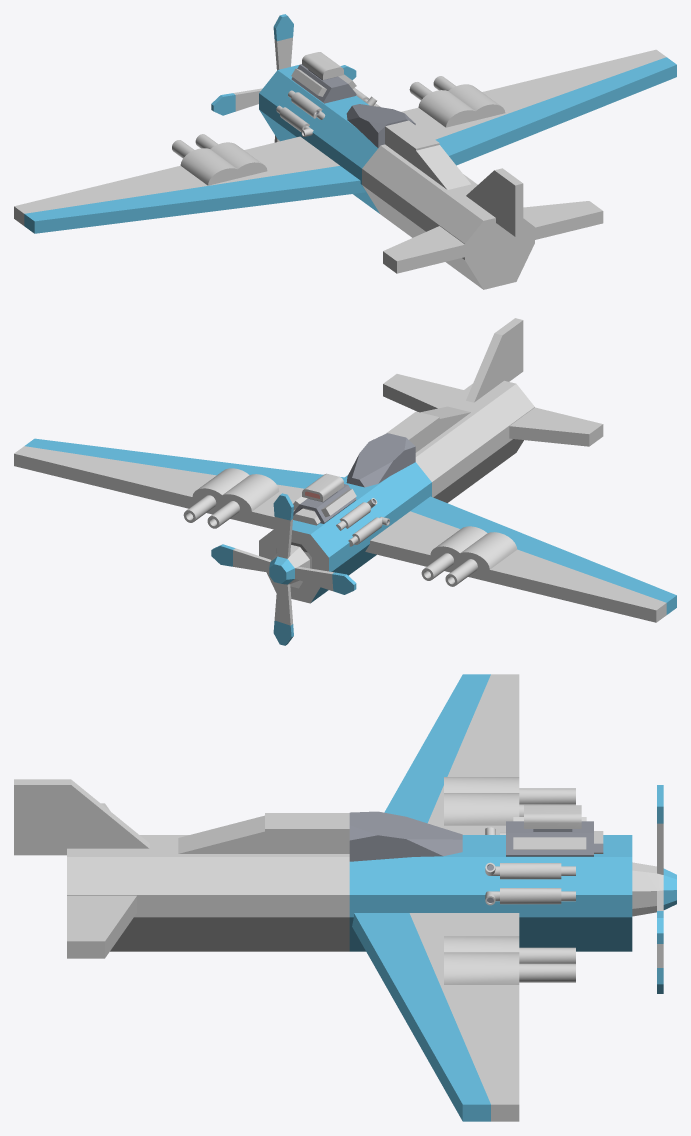
The model's file is FighterPlane.fbx.
3 renders of one model, top to bottom at view 1: azimuth 30°, elevation 25°; view 2: azimuth 150°, elevation 25°; view 3: azimuth 270°, elevation 25°, orthographic. The views are drawn at different scales.
Visible parts, largest first — view 1: engine_barrel_3, wing_endLong_5, wing_endLong_6, plane_elevator_11, plane_rudder_10, plane_elevator_16, detail_engine_12, detail_propeller_7, glass_high_8, slope_default_19, cylinder_half_31, cylinder_half_36 (+5 smaller); view 2: engine_barrel_3, wing_endLong_5, wing_endLong_6, detail_propeller_7, plane_rudder_10, plane_elevator_11, glass_high_8, detail_engine_12, plane_elevator_16, cylinder_half_31, cylinder_half_36, block_default_18 (+5 smaller); view 3: engine_barrel_3, wing_endLong_6, wing_endLong_5, plane_rudder_10, glass_high_8, detail_engine_12, plane_elevator_16, block_default_18, detail_propeller_7, slope_default_19, cylinder_half_35, cylinder_half_33 (+7 smaller).
Part boxes in pixels (left/top/right/bottom): engine_barrel_3: left=259, top=65, right=534, bottom=289; wing_endLong_5: left=14, top=136, right=365, bottom=233; wing_endLong_6: left=401, top=49, right=676, bottom=165; plane_elevator_11: left=383, top=226, right=476, bottom=273; plane_rudder_10: left=466, top=168, right=523, bottom=236; plane_elevator_16: left=523, top=201, right=603, bottom=242; detail_engine_12: left=291, top=52, right=356, bottom=103; detail_propeller_7: left=211, top=14, right=356, bottom=142; glass_high_8: left=346, top=104, right=415, bottom=147; slope_default_19: left=412, top=145, right=470, bottom=189; cylinder_half_31: left=180, top=148, right=243, bottom=185; cylinder_half_36: left=418, top=90, right=481, bottom=127; engine_barrel_3: left=259, top=380, right=534, bottom=603; wing_endLong_5: left=365, top=496, right=676, bottom=622; wing_endLong_6: left=14, top=438, right=343, bottom=529; detail_propeller_7: left=211, top=493, right=356, bottom=645; plane_rudder_10: left=466, top=318, right=523, bottom=402; plane_elevator_11: left=509, top=407, right=603, bottom=446; glass_high_8: left=346, top=433, right=415, bottom=487; detail_engine_12: left=293, top=473, right=356, bottom=525; plane_elevator_16: left=383, top=374, right=463, bottom=412; cylinder_half_31: left=454, top=532, right=517, bottom=569; cylinder_half_36: left=220, top=474, right=279, bottom=511; block_default_18: left=385, top=411, right=439, bottom=452; engine_barrel_3: left=67, top=835, right=632, bottom=951; wing_endLong_6: left=352, top=913, right=519, bottom=1121; wing_endLong_5: left=384, top=674, right=519, bottom=834; plane_rudder_10: left=14, top=779, right=149, bottom=855; glass_high_8: left=349, top=811, right=462, bottom=861; detail_engine_12: left=506, top=805, right=603, bottom=856; plane_elevator_16: left=67, top=895, right=136, bottom=958; block_default_18: left=265, top=813, right=349, bottom=853; detail_propeller_7: left=632, top=785, right=676, bottom=993; slope_default_19: left=178, top=815, right=274, bottom=853; cylinder_half_35: left=444, top=952, right=519, bottom=984; cylinder_half_33: left=444, top=793, right=519, bottom=825.
Bounding box in the file's own units: 5400 × 1228 × 3517.
